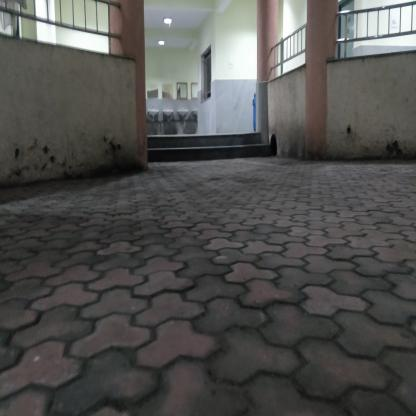stairs: (150, 132, 259, 165)
